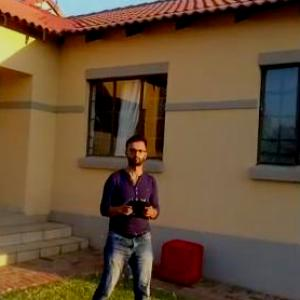follow: (86, 128, 168, 299)
